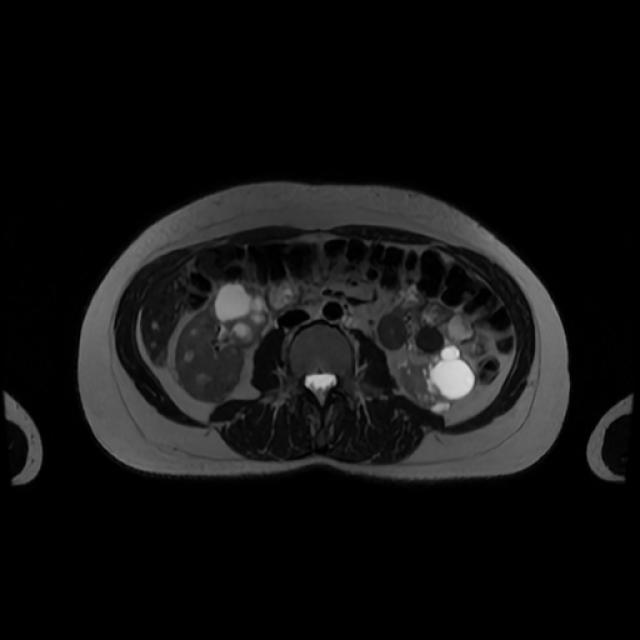sag: (174, 282, 270, 405)
sol: (397, 345, 478, 414)
